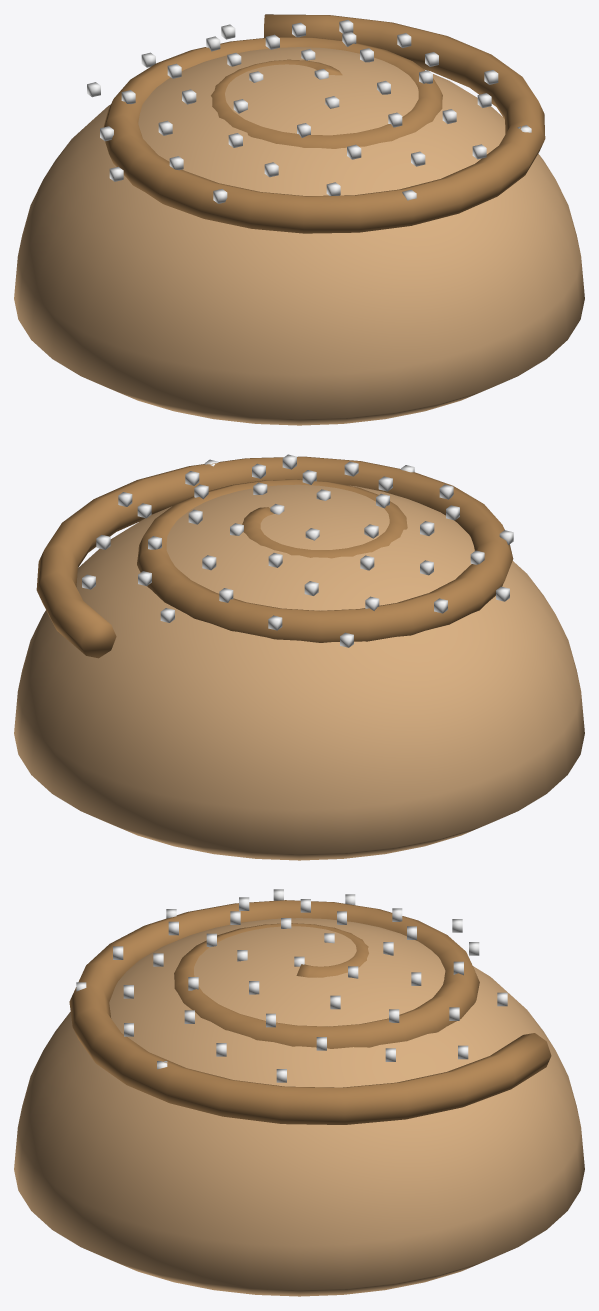
The model's file is SM_Kanelbolle.glb.
3 views of the same model, one above another, from view 1: azimuth 30°, elevation 25°; view 2: azimuth 150°, elevation 25°; view 3: azimuth 270°, elevation 25° (orthographic).
Parts seen in each view (by area): view 1: SM_Kanelbolle; view 2: SM_Kanelbolle; view 3: SM_Kanelbolle.
Boxes of the visible parts, <box> form: SM_Kanelbolle: <box>14,14,584,425</box>; SM_Kanelbolle: <box>14,454,584,860</box>; SM_Kanelbolle: <box>14,889,584,1296</box>.
Bounding box in the file's own units: 0.1 × 0.0468 × 0.1.
